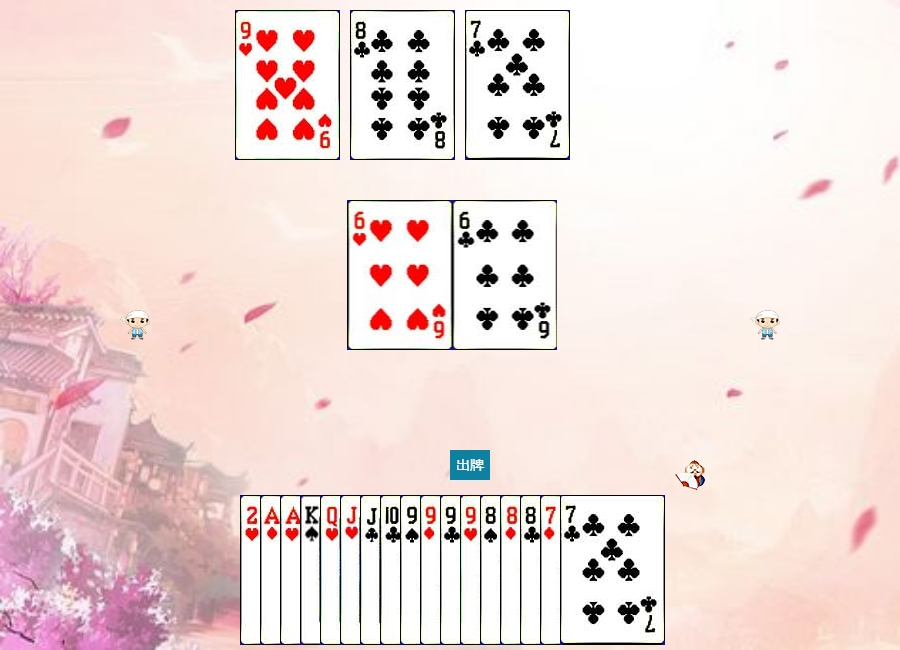10~2: (380, 495, 485, 645)
11~2: (360, 495, 465, 645)
11~3: (340, 495, 445, 645)
12~3: (320, 495, 425, 645)
13~4: (300, 495, 405, 645)
14~1: (260, 495, 365, 645)
14~3: (280, 495, 385, 645)
15~3: (240, 495, 345, 645)
6~2: (453, 200, 558, 350)
6~3: (348, 200, 453, 350)
7~1: (540, 495, 645, 645)
7~2: (465, 10, 570, 160), (560, 495, 665, 645)
8~1: (500, 495, 605, 645)
8~2: (350, 10, 455, 160), (520, 495, 625, 645)
8~4: (480, 495, 585, 645)
9~1: (420, 495, 525, 645)
9~2: (440, 495, 545, 645)
9~3: (235, 10, 340, 160), (460, 495, 565, 645)
9~4: (400, 495, 505, 645)
